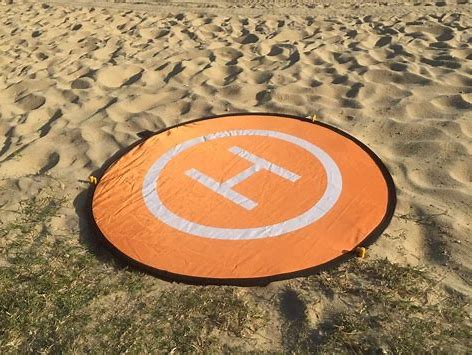H: (185, 145, 303, 211)
